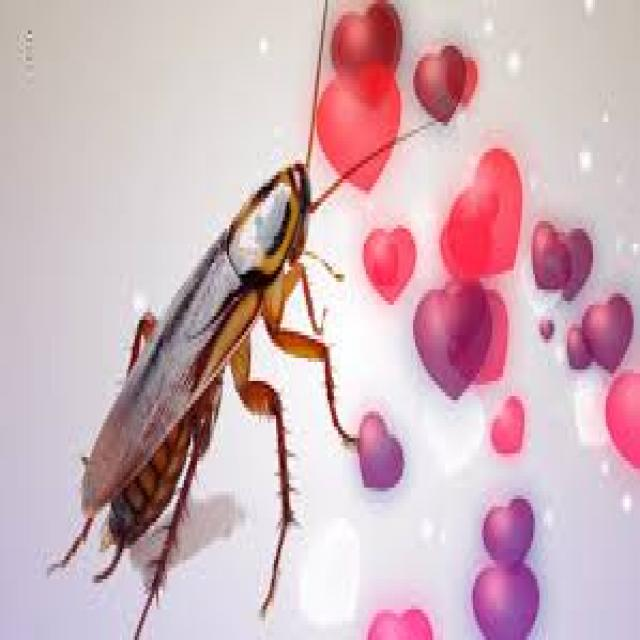Cockroach: (31, 0, 468, 640)
